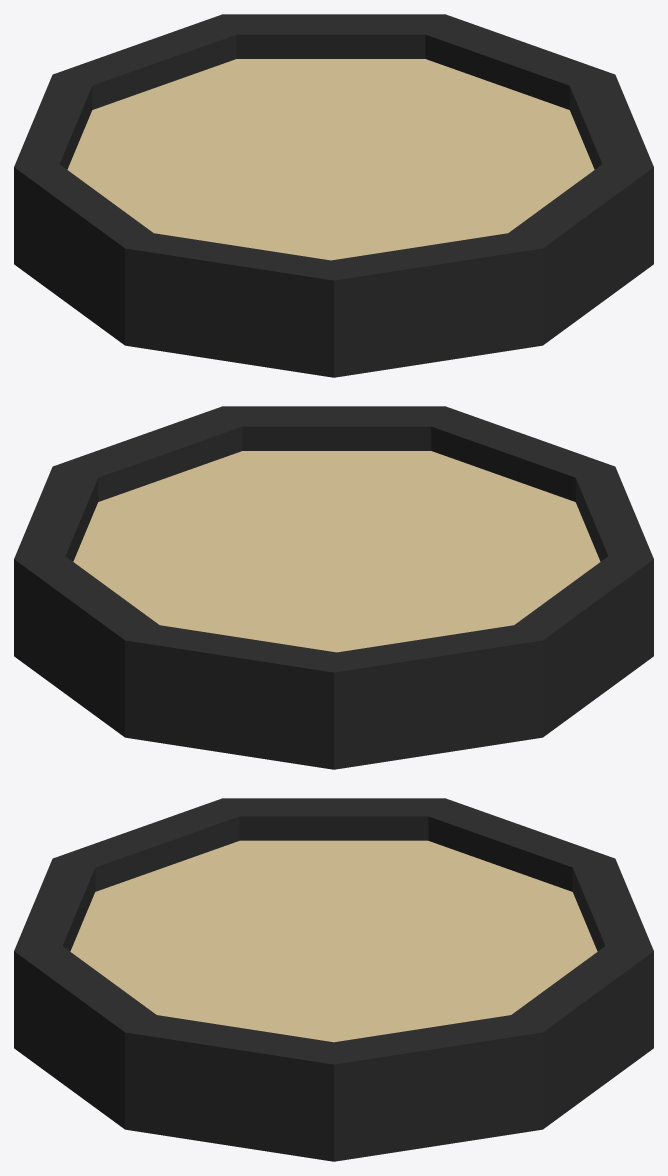
Rendered from Foundation_01.fbx.
The picture shows the model from 3 angles, top to bottom: view 1: azimuth 30°, elevation 25°; view 2: azimuth 150°, elevation 25°; view 3: azimuth 270°, elevation 25°; orthographic projection.
Visible parts, largest first — view 1: Foundation_01; view 2: Foundation_01; view 3: Foundation_01.
Boxes of the visible parts, x1,y1,x2,y2 form: Foundation_01: (14, 14, 653, 377); Foundation_01: (14, 406, 653, 769); Foundation_01: (14, 798, 653, 1161).
Size of the model in its own units: 19.74 by 3.36 by 20.04.
